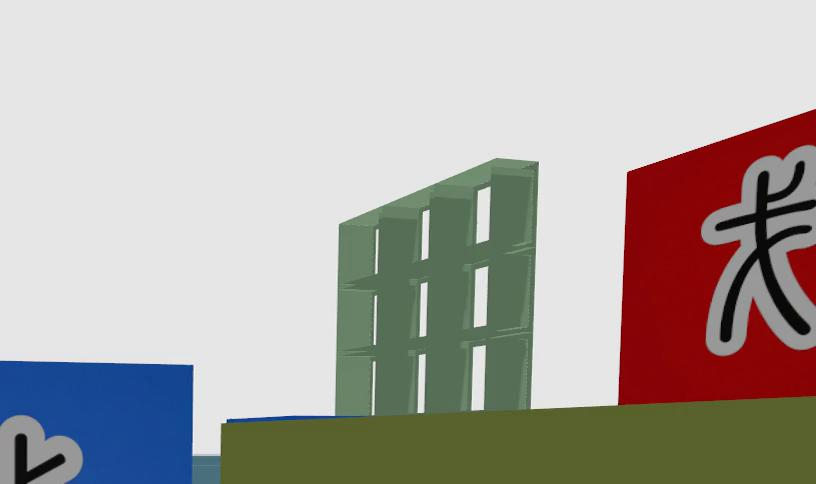KFS_FAKE: (619, 111, 815, 404), (700, 146, 815, 355)
KFS_REAL: (0, 361, 190, 484), (0, 415, 82, 484)
